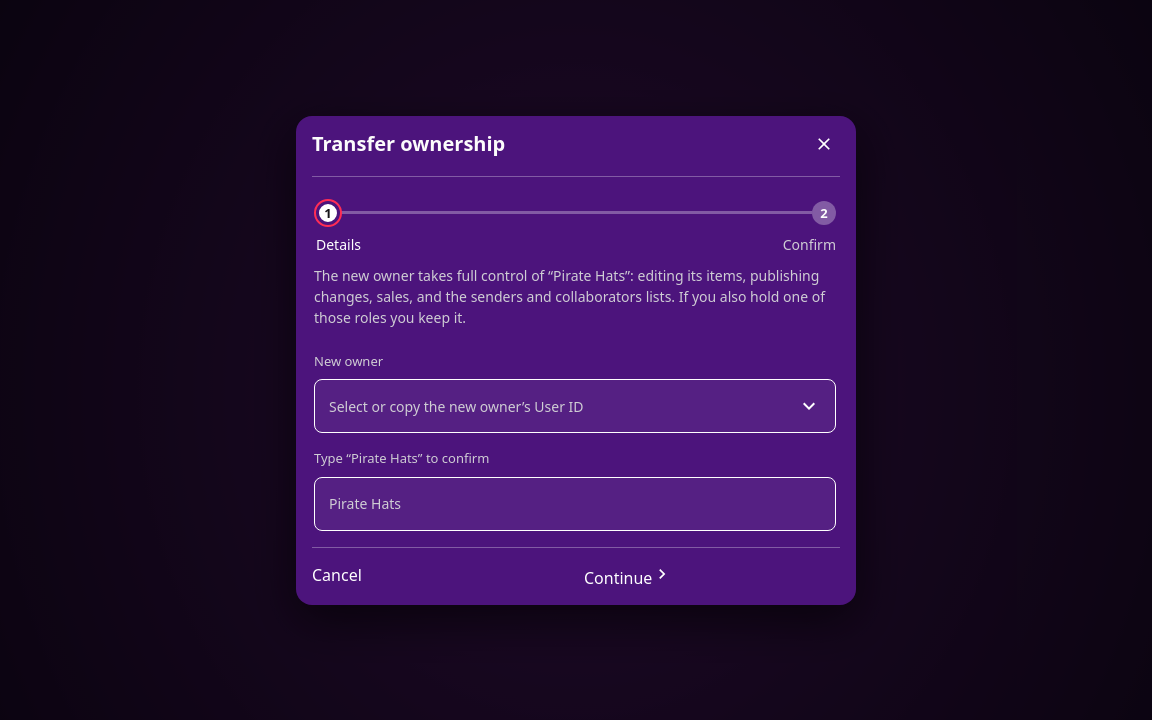
TransferOwnershipFlow › refuses the owner's own address with an inline reason
Type "0x00000000000000000000000000000000000000aa" into the dropdown with test id "new-owner-input" at (554, 406), box 327,396 -> 781,416
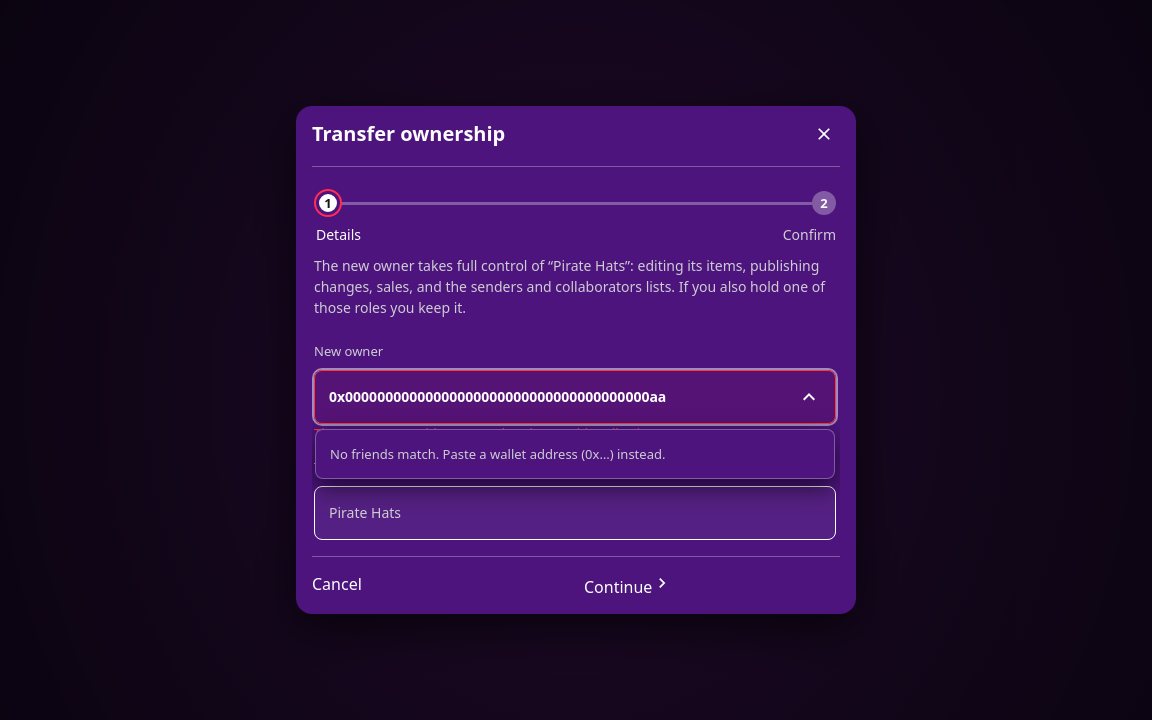
Expected: the text with test id "new-owner-error" shows "your own address", 314,424 -> 660,442
